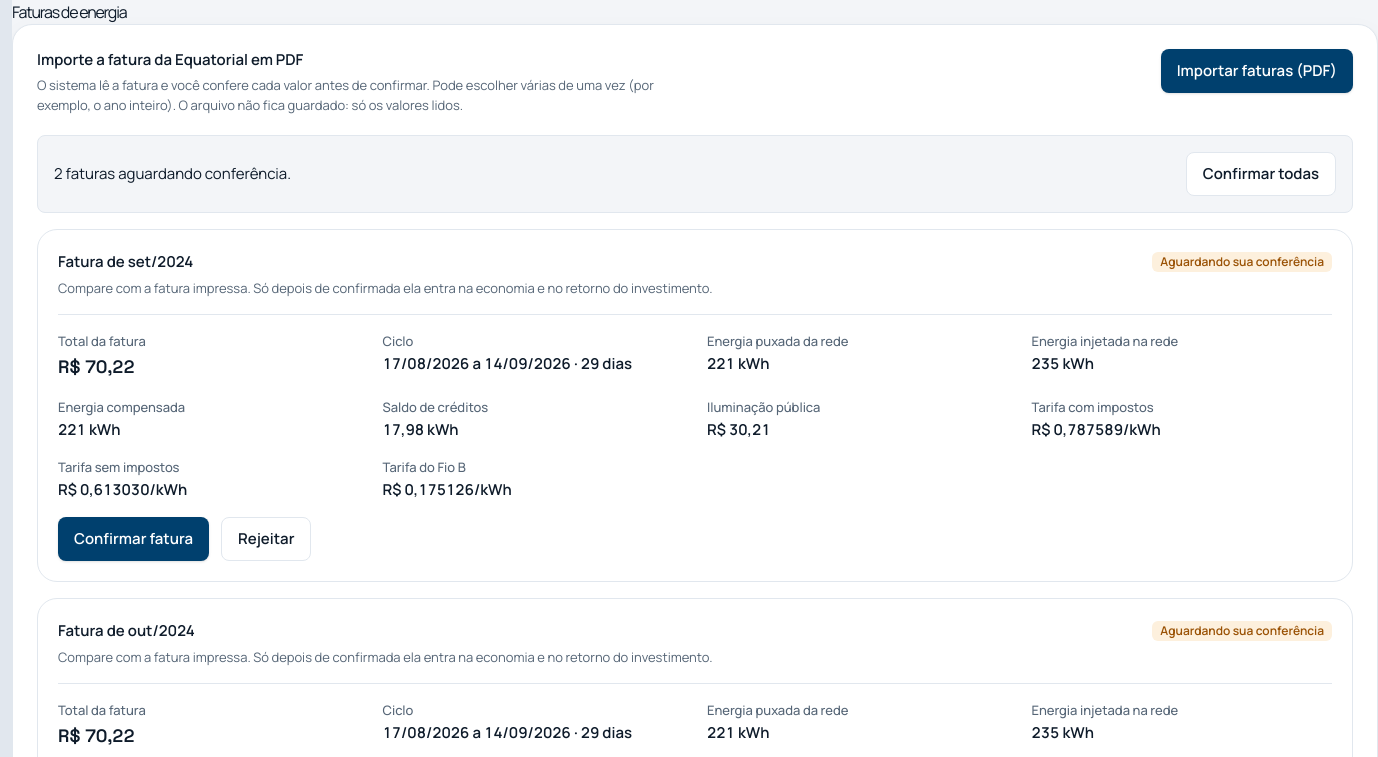
Scenario: BillsSection — importar e conferir faturas › durante o confirmar todas, importar e os botões de cada fatura ficam travados
Click the button "Confirmar todas": {"x": 1261, "y": 174} [1186, 152, 1336, 196]
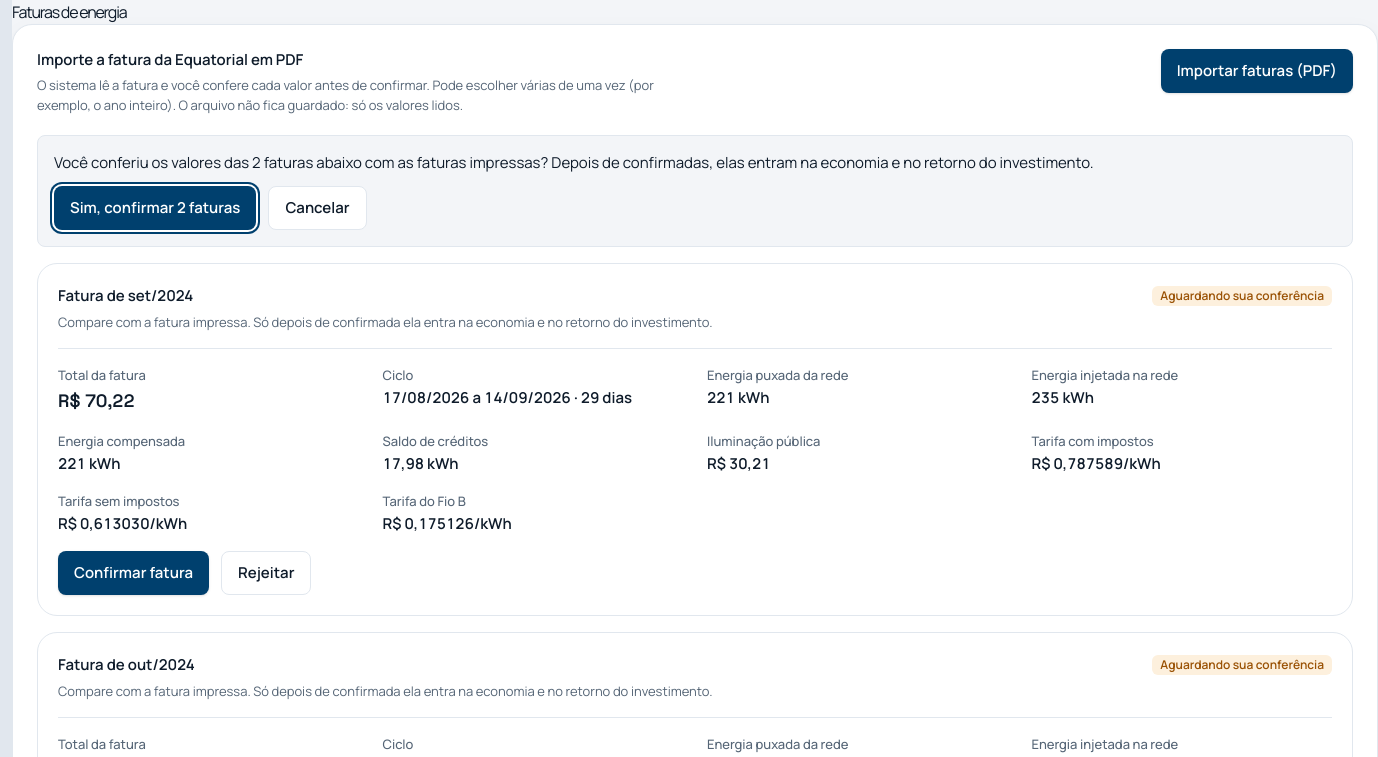
Click the button "Sim, confirmar 2 faturas": {"x": 155, "y": 208} [54, 186, 256, 230]
(page scrolled)
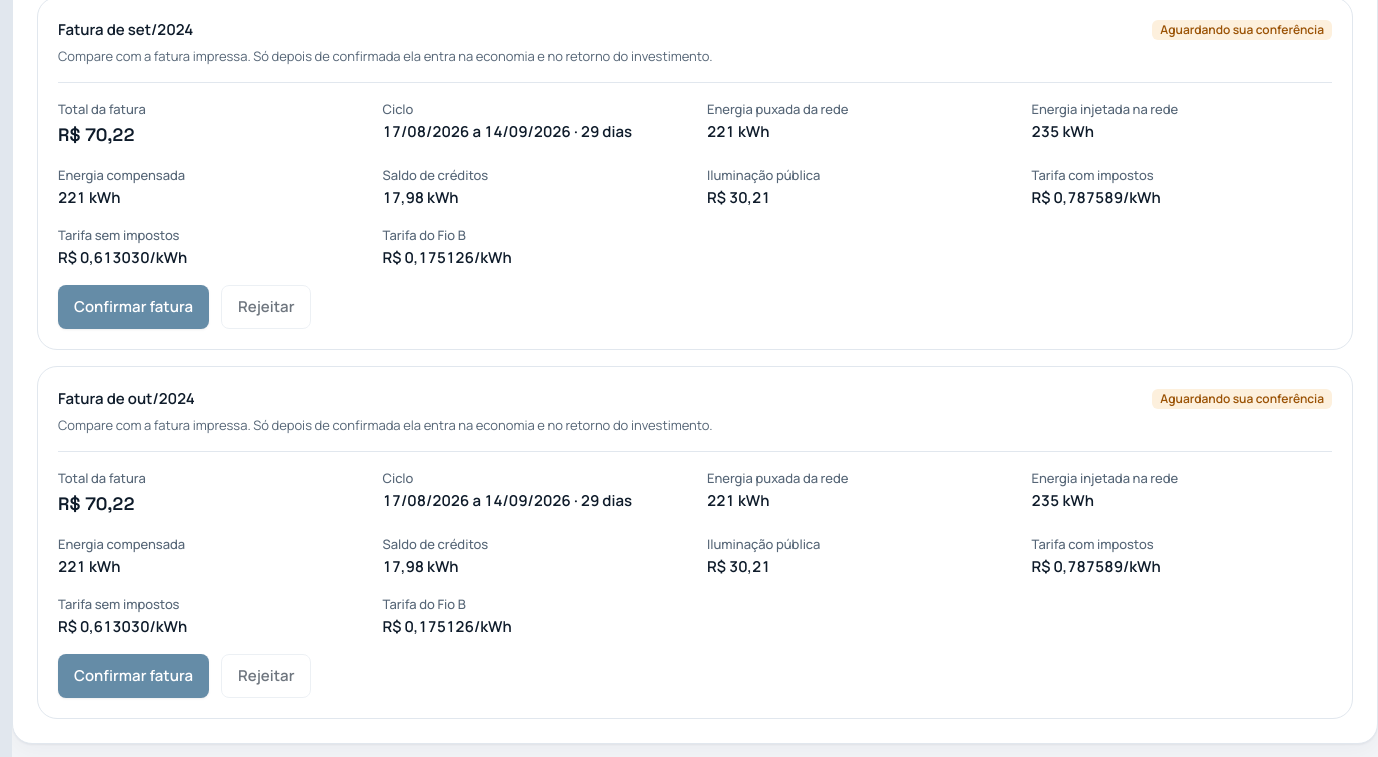
expect the button "Confirmar fatura" below "set/2024" is disabled: met, box [58, 285, 209, 329]
expect the button "Confirmar fatura" below "out/2024" is disabled: met, box [58, 654, 209, 698]
